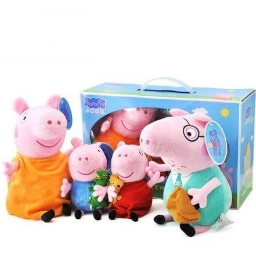Peppa: (107, 142, 155, 222)
